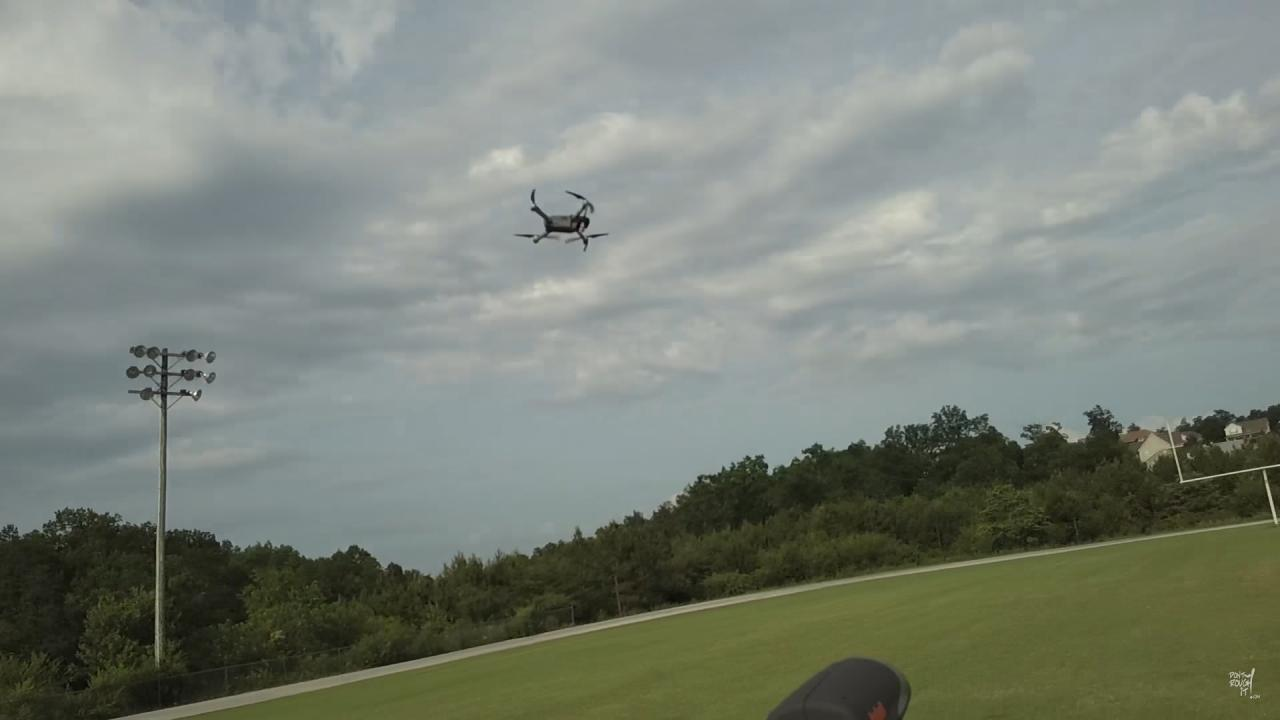Drone: (501, 179, 624, 262)
